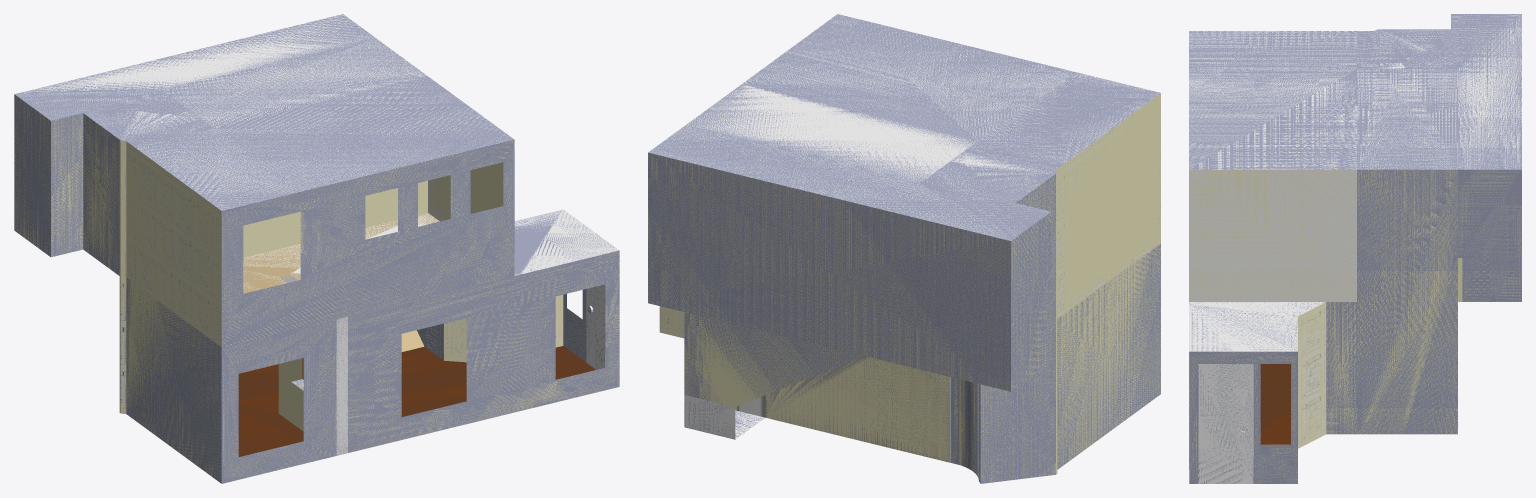
Rendered from Loft_Tmp.fbx.
3 renders of one model, left to right at view 1: azimuth 30°, elevation 25°; view 2: azimuth 150°, elevation 25°; view 3: azimuth 270°, elevation 25°, orthographic. The views are drawn at different scales.
Parts seen in each view (by area): view 1: Model; view 2: Model; view 3: Model.
Part boxes in pixels (x1,y1,x2,y2): Model: (14, 14, 619, 483); Model: (648, 14, 1160, 483); Model: (1189, 14, 1521, 483).
Size of the model in its own units: 2356 by 1417 by 1615.
